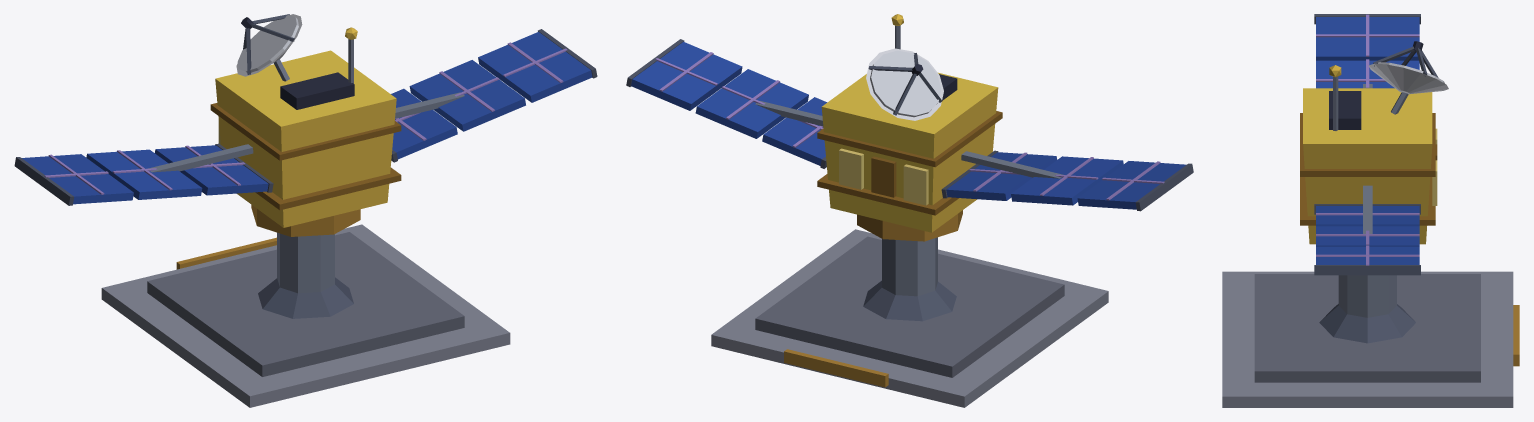
File: Decor_Observatory_Satellite.fbx
3 views of the same model, side by side, from view 1: azimuth 30°, elevation 25°; view 2: azimuth 150°, elevation 25°; view 3: azimuth 270°, elevation 25° (orthographic). The views are drawn at different scales.
Visible parts, largest first — view 1: Satellite_Body; view 2: Satellite_Body; view 3: Satellite_Body.
Part boxes in pixels (x1,y1,x2,y2): Satellite_Body: [14, 14, 597, 407]; Satellite_Body: [626, 14, 1193, 407]; Satellite_Body: [1222, 14, 1519, 407].
Size of the model in its own units: 18.15 by 9.83 by 9.
